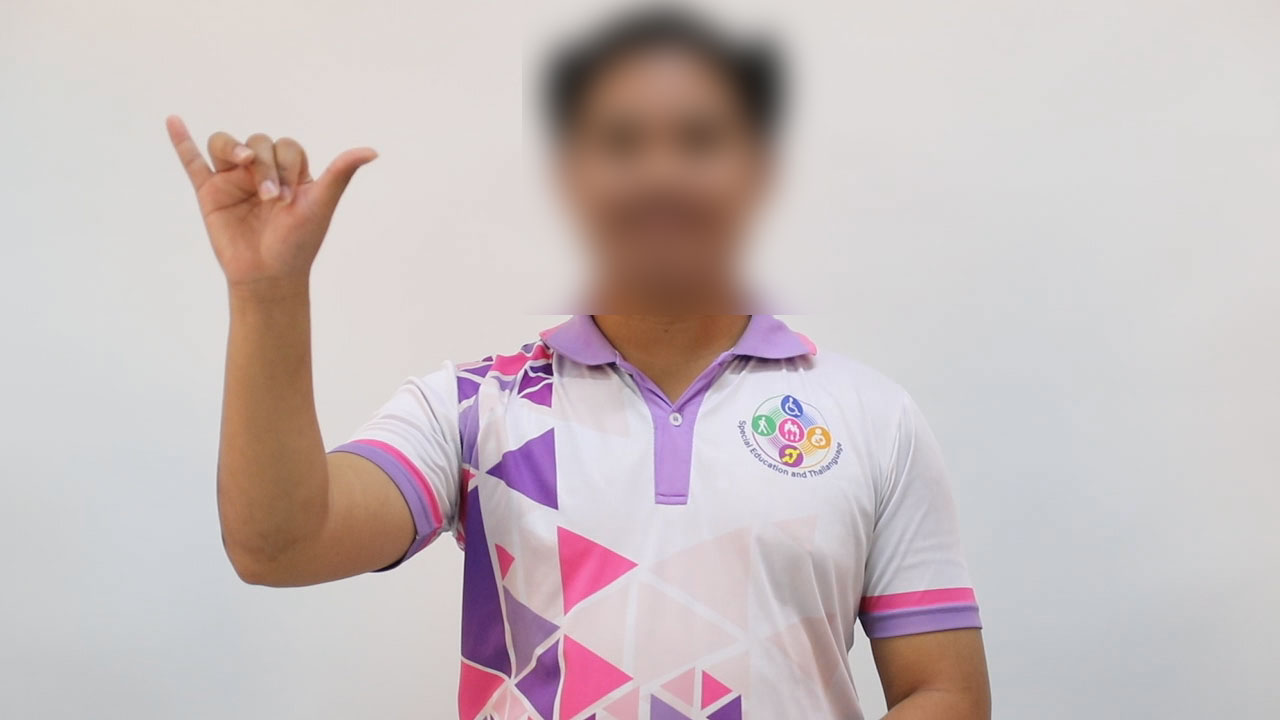yor: (151, 98, 381, 310)
